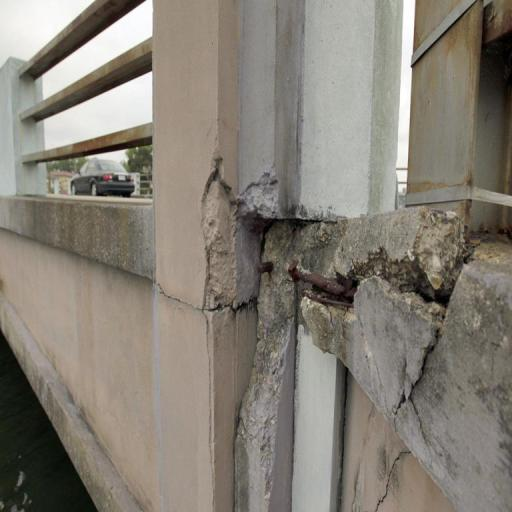spalling: (206, 180, 473, 451), (370, 444, 413, 512)
